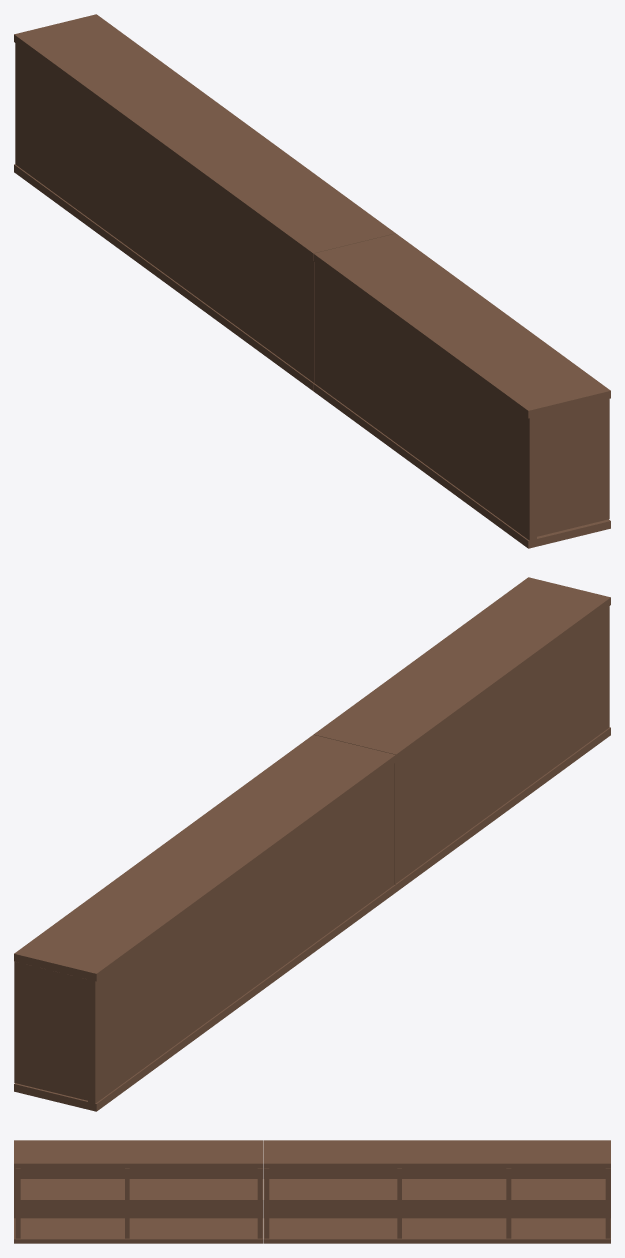
The model's file is bookshelf.glb.
3 views of the same model, one above another, from view 1: azimuth 30°, elevation 25°; view 2: azimuth 150°, elevation 25°; view 3: azimuth 270°, elevation 25° (orthographic). The views are drawn at different scales.
Visible parts, largest first — view 1: bools.001; view 2: bools.001; view 3: bools.001.
Part boxes in pixels (<box>): bools.001: <box>14,14,610,548</box>; bools.001: <box>14,577,610,1111</box>; bools.001: <box>14,1140,610,1243</box>.
Bounding box in the file's own units: 1.42 × 2.26 × 15.31.
